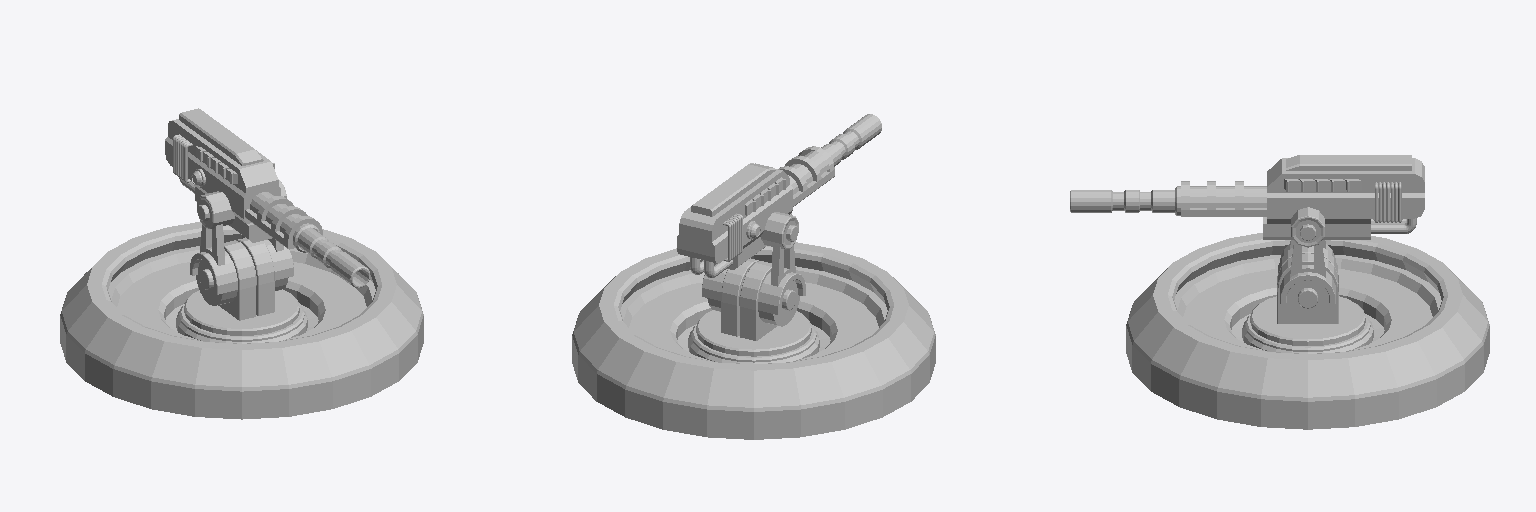
3 views of the same model, side by side, from view 1: azimuth 30°, elevation 25°; view 2: azimuth 150°, elevation 25°; view 3: azimuth 270°, elevation 25° (orthographic).
Parts seen in each view (by area): view 1: Turret; view 2: Turret; view 3: Turret.
Boxes of the visible parts, <box> form: Turret: <box>60,108,423,419</box>; Turret: <box>572,114,935,439</box>; Turret: <box>1070,155,1489,429</box>.
Size of the model in its own units: 0.6666 by 0.3923 by 0.7692.